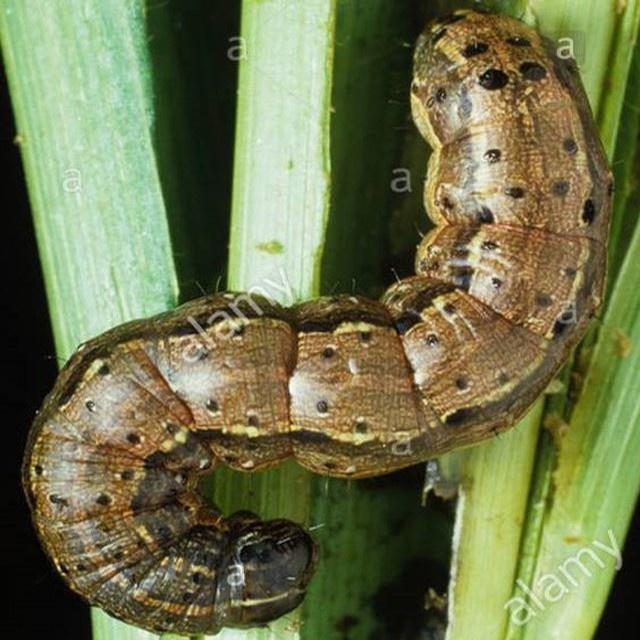gusano_cogollero: (18, 0, 616, 637)
